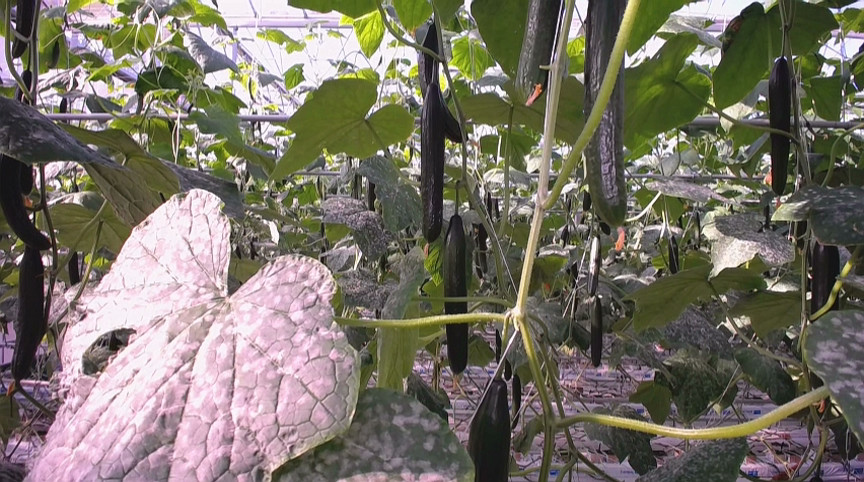cucumber: (586, 1, 629, 230), (1, 156, 53, 249), (518, 1, 564, 100), (469, 379, 511, 482), (13, 247, 45, 379), (443, 217, 469, 371), (419, 84, 444, 244), (771, 56, 792, 197), (810, 240, 840, 314), (12, 1, 33, 59), (586, 236, 604, 297), (590, 297, 605, 367)
